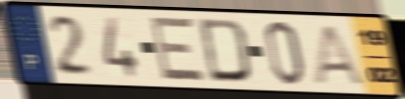0: (262, 19, 308, 88)
2: (46, 13, 96, 78)
4: (101, 14, 142, 80)
A: (310, 23, 370, 89)
D: (196, 17, 254, 85)
E: (149, 15, 208, 84)
